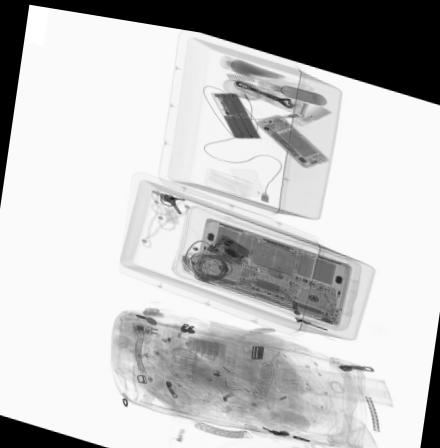Powerbank: (210, 85, 262, 130)
